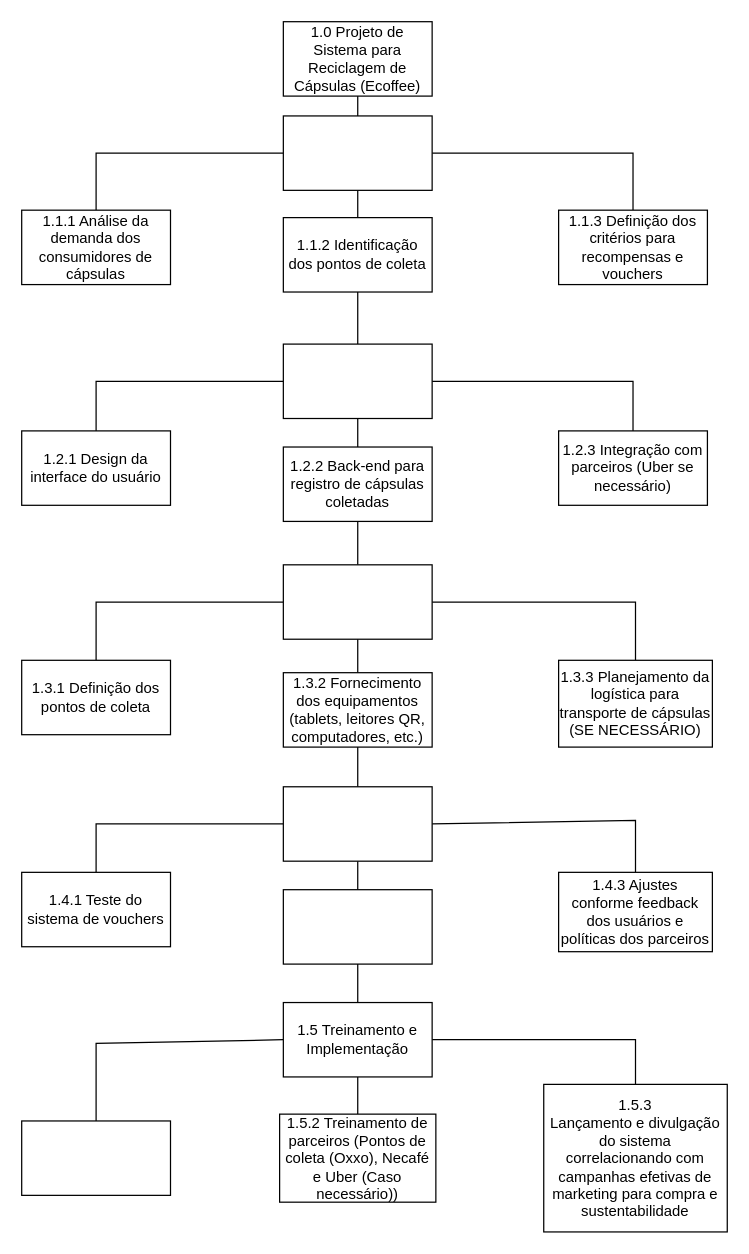
Image size: 749x1254. Some labels were removed from this diagram. The shapes that lost their labels are listed below. From the top down, each one's box as (x1, y1, x2, y2) in pixels, then its label:
(282, 115, 432, 190): 1.0 Levantamento de Necessidades
(282, 343, 432, 418): 1.2 Desenvolvimento do Sistema
(282, 564, 432, 639): 1.3 Infraestrutura e Logística
(282, 786, 432, 861): 1.4 Testes e Validação
(282, 888, 432, 964): 1.4.2 Validação dos pontos de coleta e funcionamento do hardware
(20, 1120, 170, 1195): 1.5.1 Treinamento de funcionários e usuários
